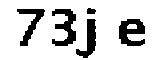3: (48, 7, 83, 52)
7: (13, 5, 48, 53)
e: (115, 15, 151, 49)
j: (77, 6, 99, 60)
